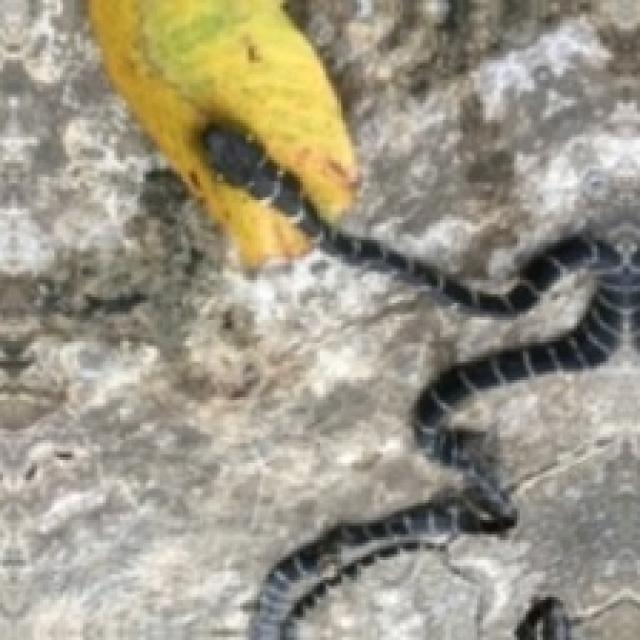mangrove cat snake: (205, 132, 639, 639)
